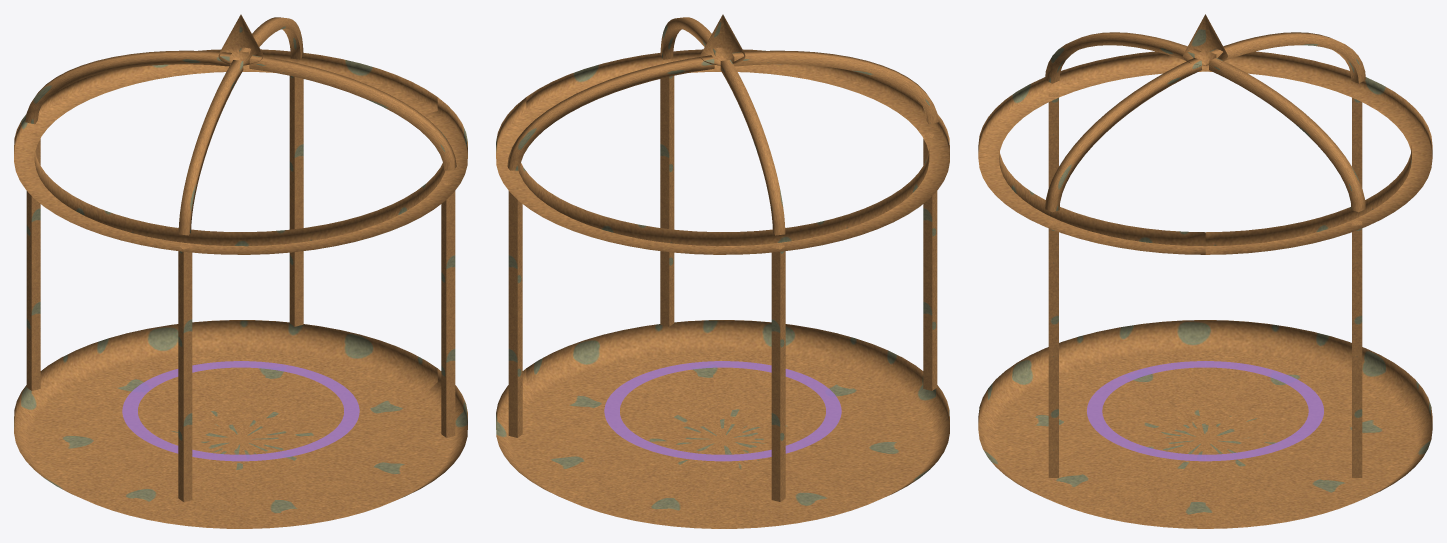
File: kt_lift.glb
The picture shows the model from 3 angles, left to right: view 1: azimuth 30°, elevation 25°; view 2: azimuth 150°, elevation 25°; view 3: azimuth 270°, elevation 25°; orthographic projection.
Visible parts, largest first — view 1: kt_lift; view 2: kt_lift; view 3: kt_lift.
Part boxes in pixels (x1,y1,x2,y2): kt_lift: [14, 14, 467, 528]; kt_lift: [496, 14, 949, 528]; kt_lift: [978, 14, 1432, 528].
Bounding box in the file's own units: 4.4 × 5.45 × 4.4.
Materials: 2 (1 with a texture image).
